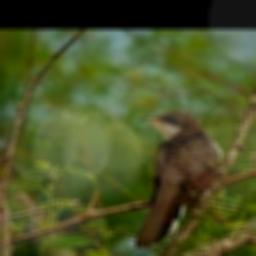Cuckoo: (134, 111, 223, 248)
